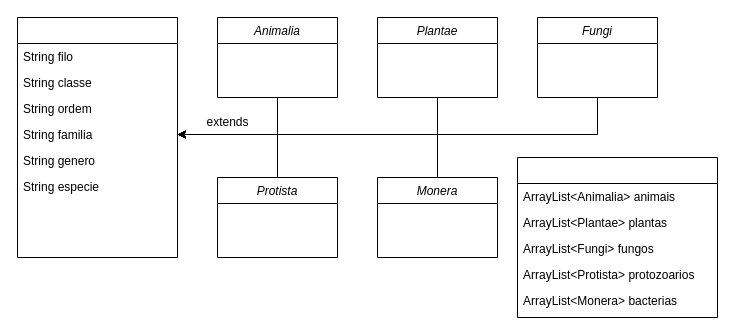
This 735x335 diagram has some shape labels left out. The shapes that lost their labels are listed below. From the top down, each one's box as (x1, y1, x2, y2) in pixels, then its label:
(16, 16, 178, 258): SerVivo
(516, 156, 718, 318): Main
